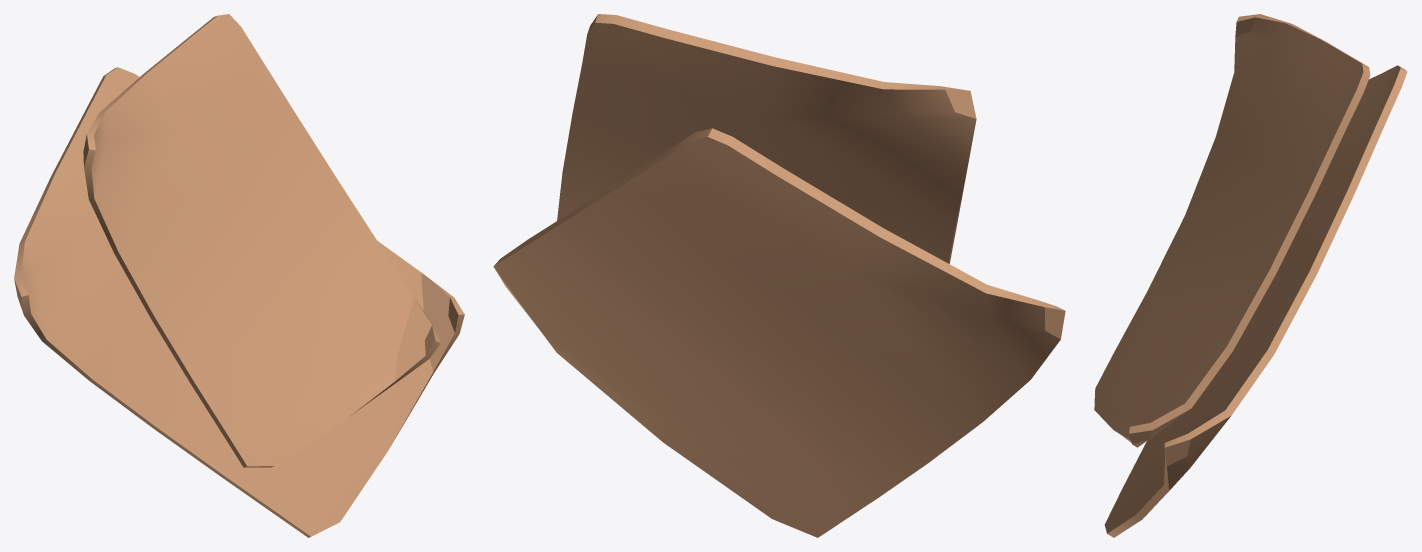
File: Paper-transformed.glb
3 views of the same model, side by side, from view 1: azimuth 30°, elevation 25°; view 2: azimuth 150°, elevation 25°; view 3: azimuth 270°, elevation 25° (orthographic). The views are drawn at different scales.
Parts seen in each view (by area): view 1: UI_Paper; view 2: UI_Paper; view 3: UI_Paper.
Boxes of the visible parts, box(x1,y1,x2,y2) form: UI_Paper: box(14, 14, 464, 537); UI_Paper: box(493, 14, 1065, 537); UI_Paper: box(1094, 14, 1407, 537).
Size of the model in its own units: 0.5096 by 0.5156 by 0.3065.
Materials: 1 (1 with a texture image).
